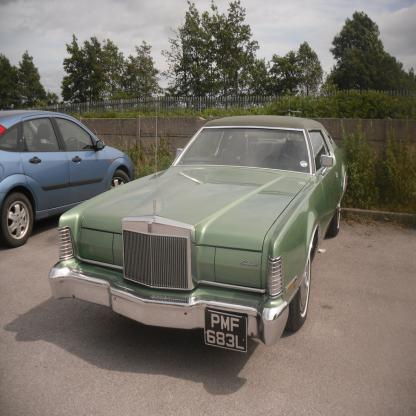Car: (49, 97, 348, 352), (0, 110, 135, 247)
